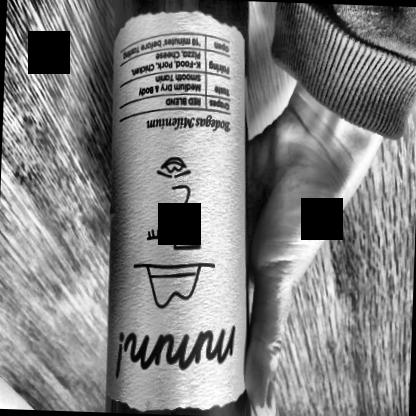umm: (100, 8, 259, 410)
